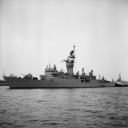Fragata: (4, 45, 117, 92)
